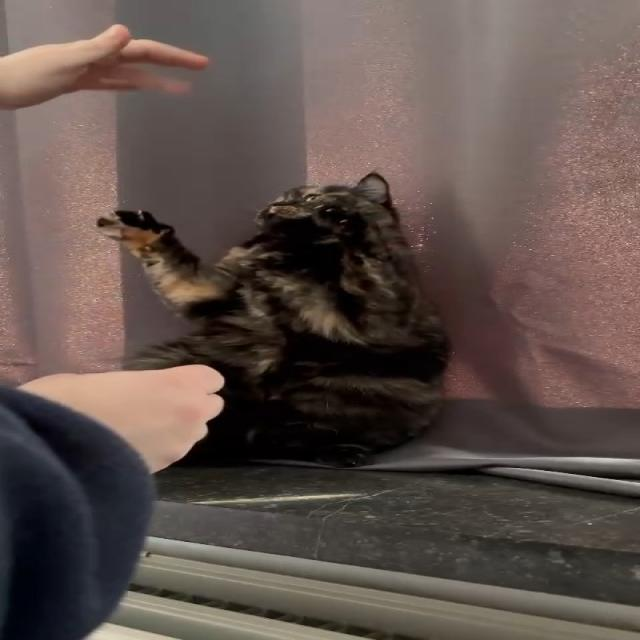authorized: (95, 170, 453, 468)
